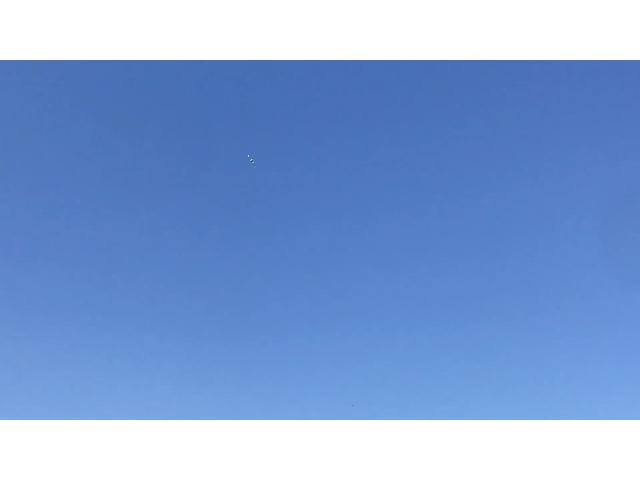Anti-Drone: (230, 146, 272, 178)
